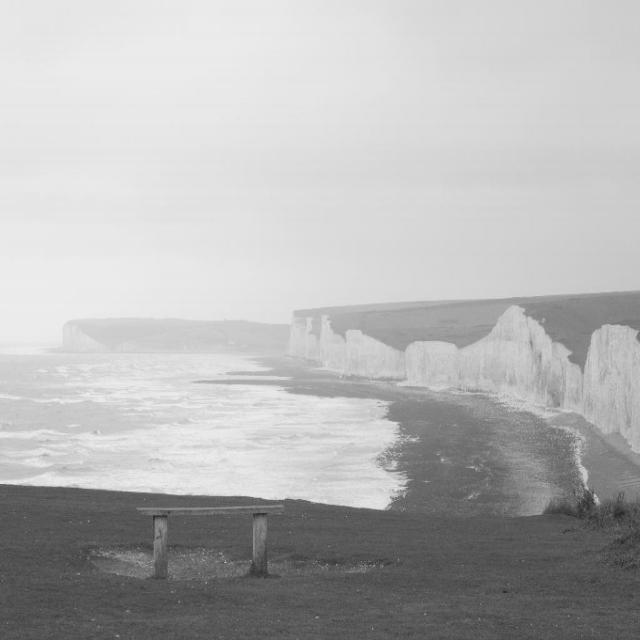Table: (118, 497, 284, 594)
